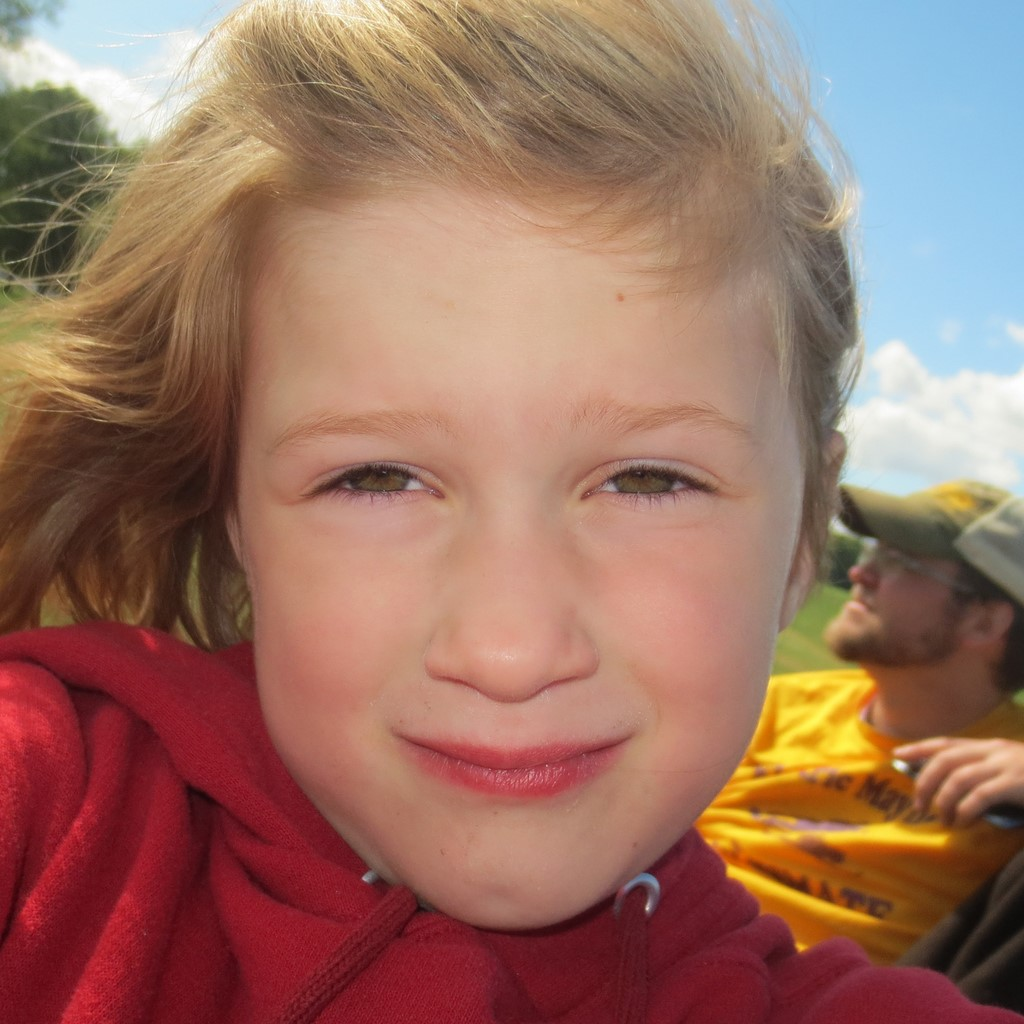sin_mascara: (192, 98, 820, 934)
